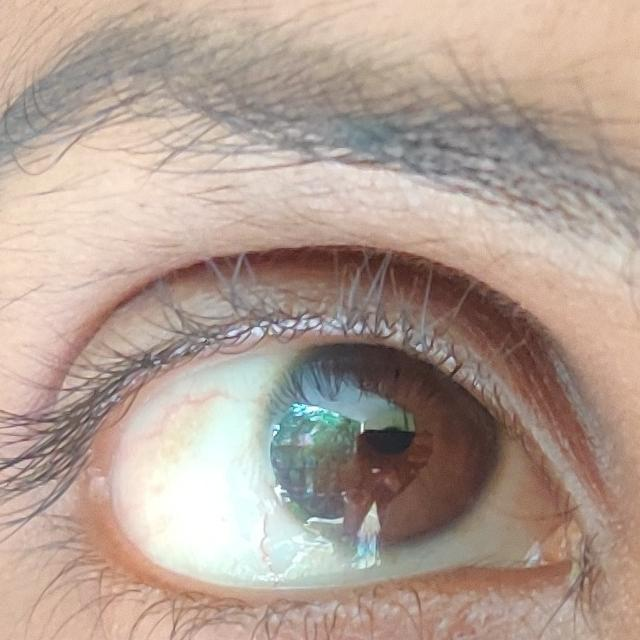eye: (102, 339, 554, 592)
iris: (273, 343, 495, 544)
